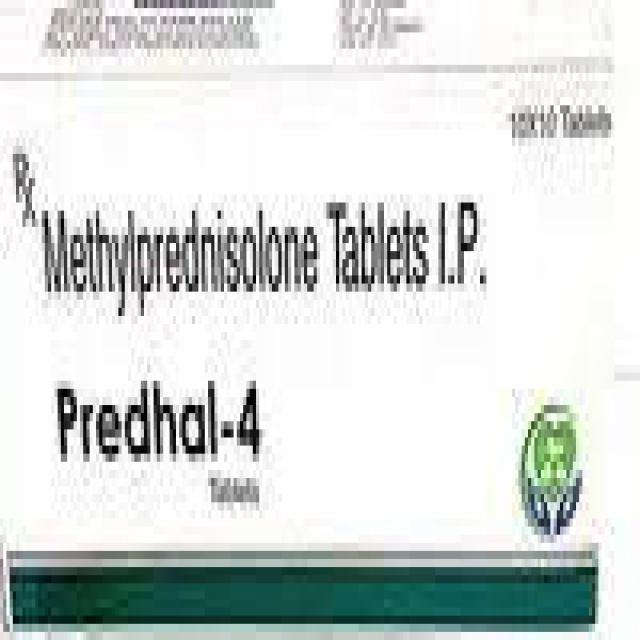drug-name: (48, 379, 268, 472)
